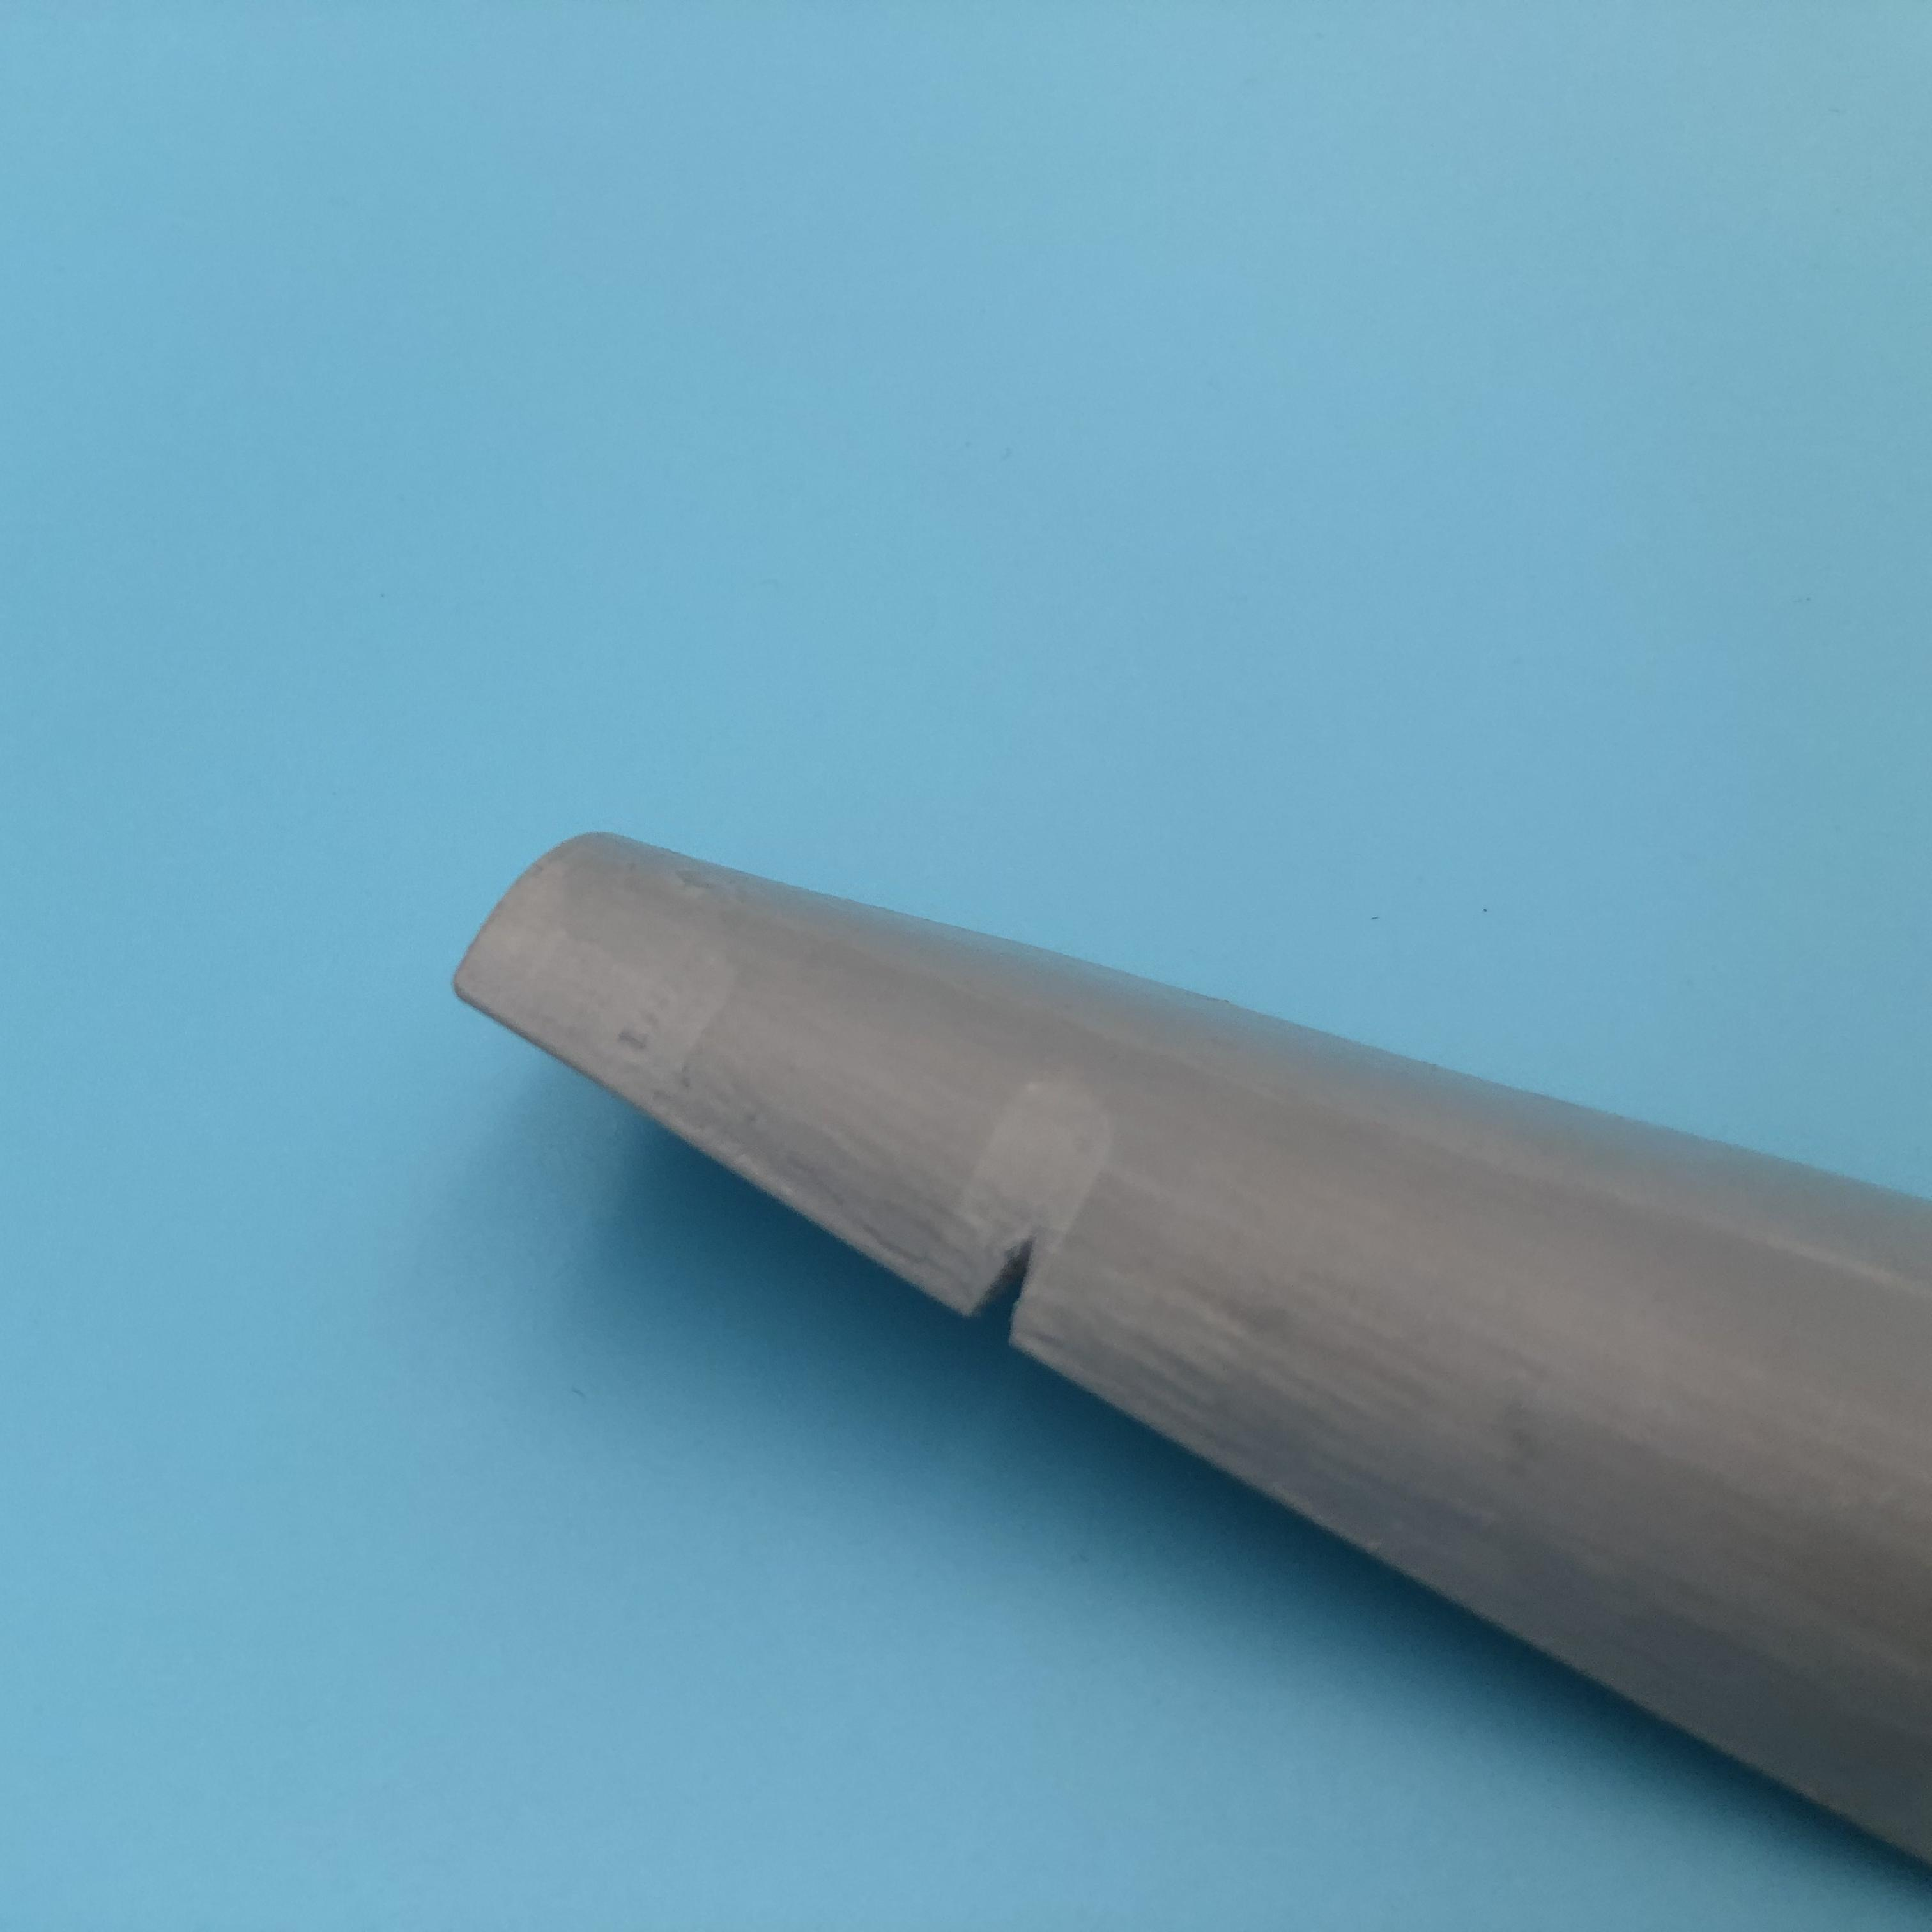groove: (973, 1233, 1054, 1339)
